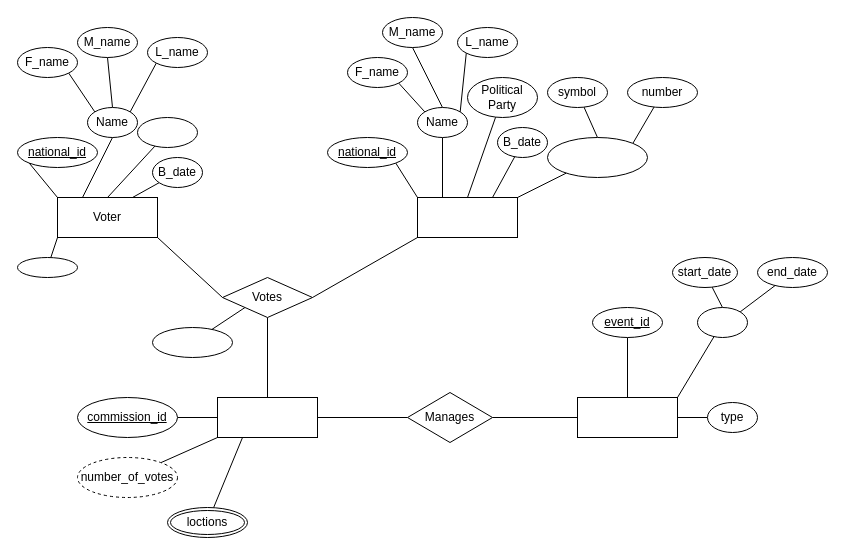
Some shapes in this 845 by 555 pixel diagram are drawn without their labels. The centre of each missing label's shape, as x and y in pixels:
address: (x=167, y=132)
Campaign_info: (x=597, y=157)
Candidate: (x=467, y=217)
date: (x=722, y=322)
Election Commission: (x=267, y=417)
Election Event: (x=627, y=417)
gender: (x=47, y=267)
timestamp: (x=192, y=342)
